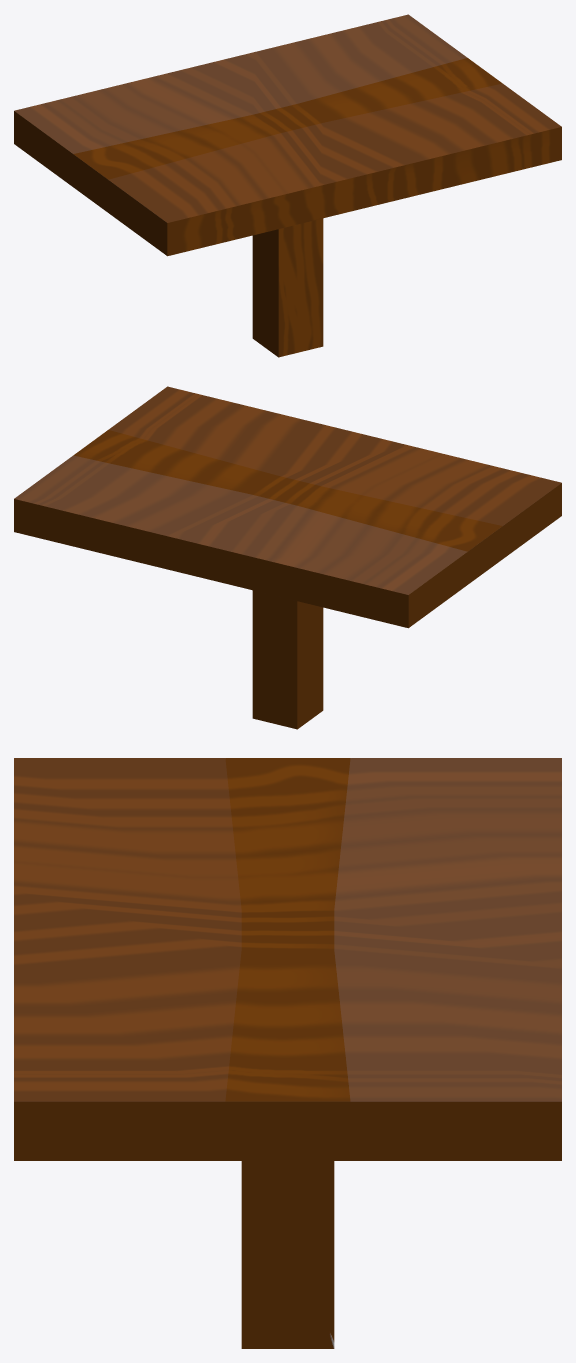
Rendered from Level1-6_Platform.fbx.
The picture shows the model from 3 angles, top to bottom: view 1: azimuth 30°, elevation 25°; view 2: azimuth 150°, elevation 25°; view 3: azimuth 270°, elevation 25°; orthographic projection. The views are drawn at different scales.
Visible parts, largest first — view 1: Cube.001; view 2: Cube.001; view 3: Cube.001.
Boxes of the visible parts, left/top/right/bottom form: Cube.001: left=14, top=14, right=561, bottom=357; Cube.001: left=14, top=386, right=561, bottom=729; Cube.001: left=14, top=758, right=561, bottom=1348.
Size of the model in its own units: 1908 by 1034 by 1286.
